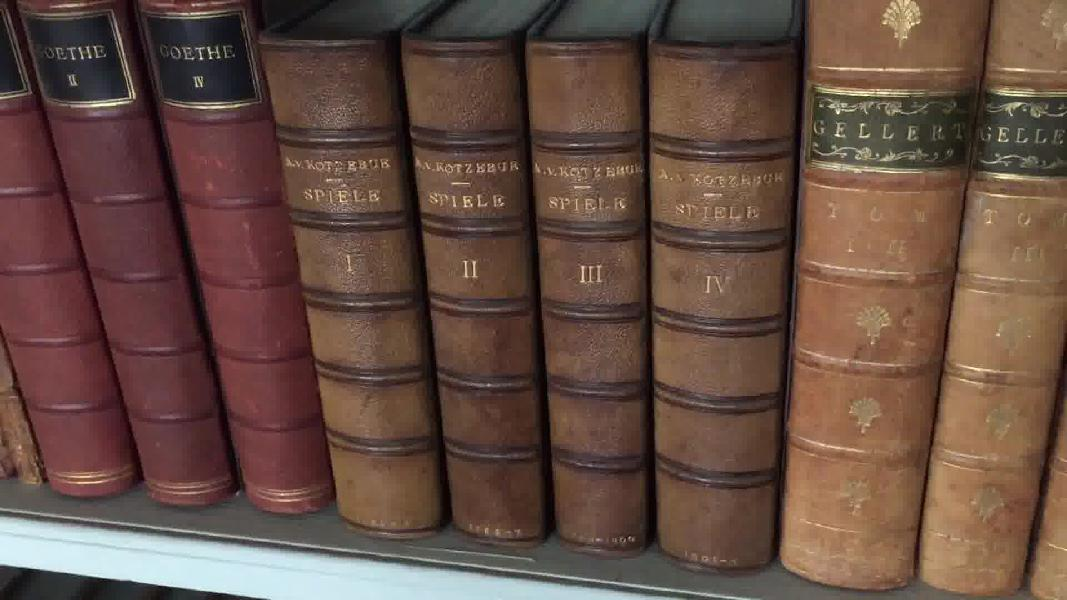Aa6-11_13: (6, 5, 333, 509)
Aa6-14_17: (256, 27, 821, 582)
